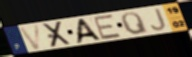A: (75, 17, 104, 45)
E: (93, 13, 123, 41)
J: (150, 8, 168, 32)
Q: (120, 11, 151, 36)
V: (17, 23, 43, 51)
X: (41, 20, 74, 49)
